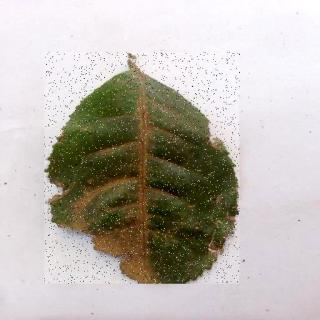Algal Leaf: (46, 53, 242, 285)
